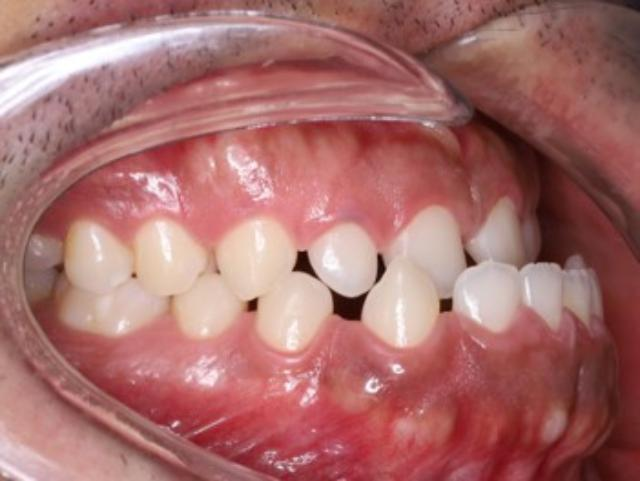canine class III full class: (214, 213, 442, 363)
